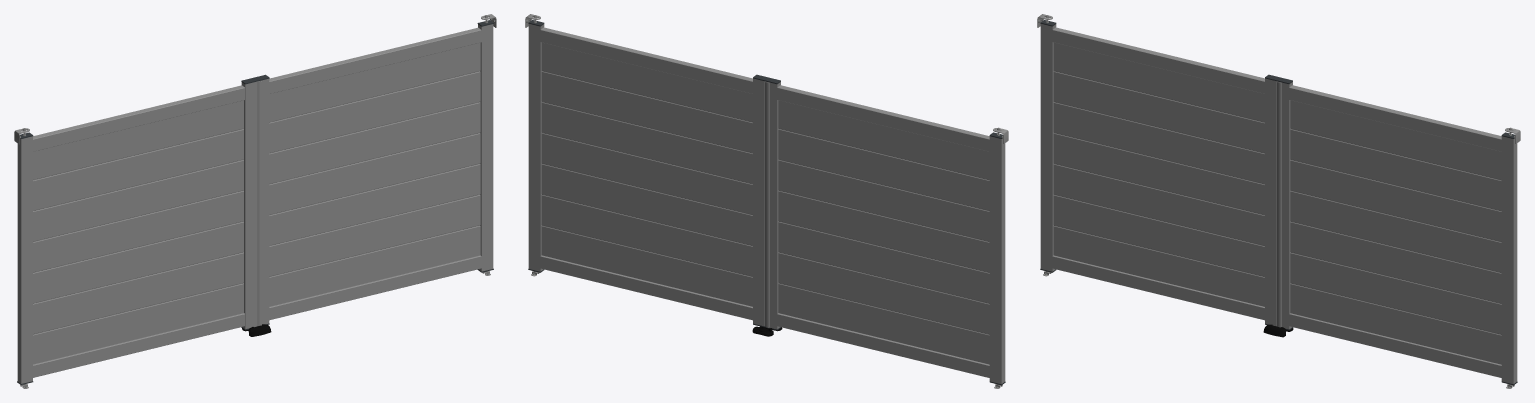
The picture shows the model from 3 angles, left to right: view 1: azimuth 30°, elevation 25°; view 2: azimuth 150°, elevation 25°; view 3: azimuth 330°, elevation 25°; orthographic projection.
Visible parts, largest first — view 1: Shape107412889, Shape107412890, Shape107412891, Shape107412893, Shape107412892, Shape176, Shape177, Shape178, Shape174, Shape175, Shape107412888, Shape173 (+11 smaller); view 2: Shape178, Shape174, Shape176, Shape177, Shape107412889, Shape175, Shape107412890, Shape107412891, Shape107412893, Shape107412892, Shape173, Shape107412888 (+11 smaller); view 3: Shape107412890, Shape107412892, Shape174, Shape175, Shape107412889, Shape107412891, Shape107412893, Shape176, Shape177, Shape178, Shape107412888, Shape173 (+11 smaller).
Part boxes in pixels (x1,y1,x2,y2): Shape107412889: (269,194,480,276); Shape107412890: (269,163,480,245); Shape107412891: (269,132,480,214); Shape107412893: (269,71,480,152); Shape107412892: (269,102,480,183); Shape176: (33,190,243,272); Shape177: (33,159,243,241); Shape178: (33,128,243,210); Shape174: (33,252,243,334); Shape175: (33,221,243,303); Shape107412888: (269,225,480,306); Shape173: (33,283,243,364); Shape178: (778,128,989,210); Shape174: (778,252,989,334); Shape176: (778,190,989,272); Shape177: (778,159,989,241); Shape107412889: (541,194,752,276); Shape175: (778,221,989,303); Shape107412890: (541,163,752,245); Shape107412891: (541,132,752,214); Shape107412893: (541,70,752,152); Shape107412892: (541,101,752,183); Shape173: (778,283,989,364); Shape107412888: (541,225,752,306); Shape107412890: (1290,221,1501,303); Shape107412892: (1290,159,1501,241); Shape174: (1053,194,1264,276); Shape175: (1053,163,1264,245); Shape107412889: (1290,252,1501,334); Shape107412891: (1290,190,1501,272); Shape107412893: (1290,128,1501,210); Shape176: (1053,132,1264,214); Shape177: (1053,101,1264,183); Shape178: (1053,71,1264,152); Shape107412888: (1290,283,1501,364); Shape173: (1053,225,1264,306).
Bounding box in the file's own units: 3260 × 1696 × 146.
Materials: 7 (2 with a texture image).
